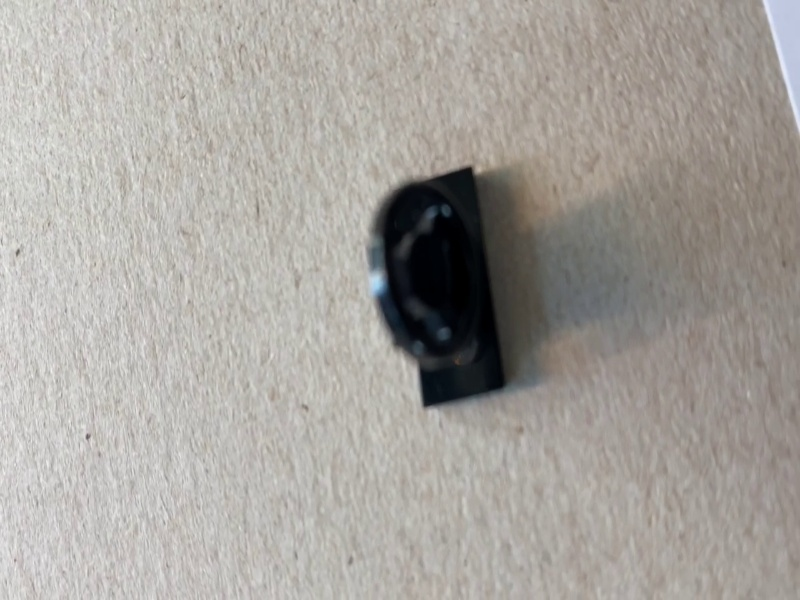steering wheel: (365, 167, 510, 409)
